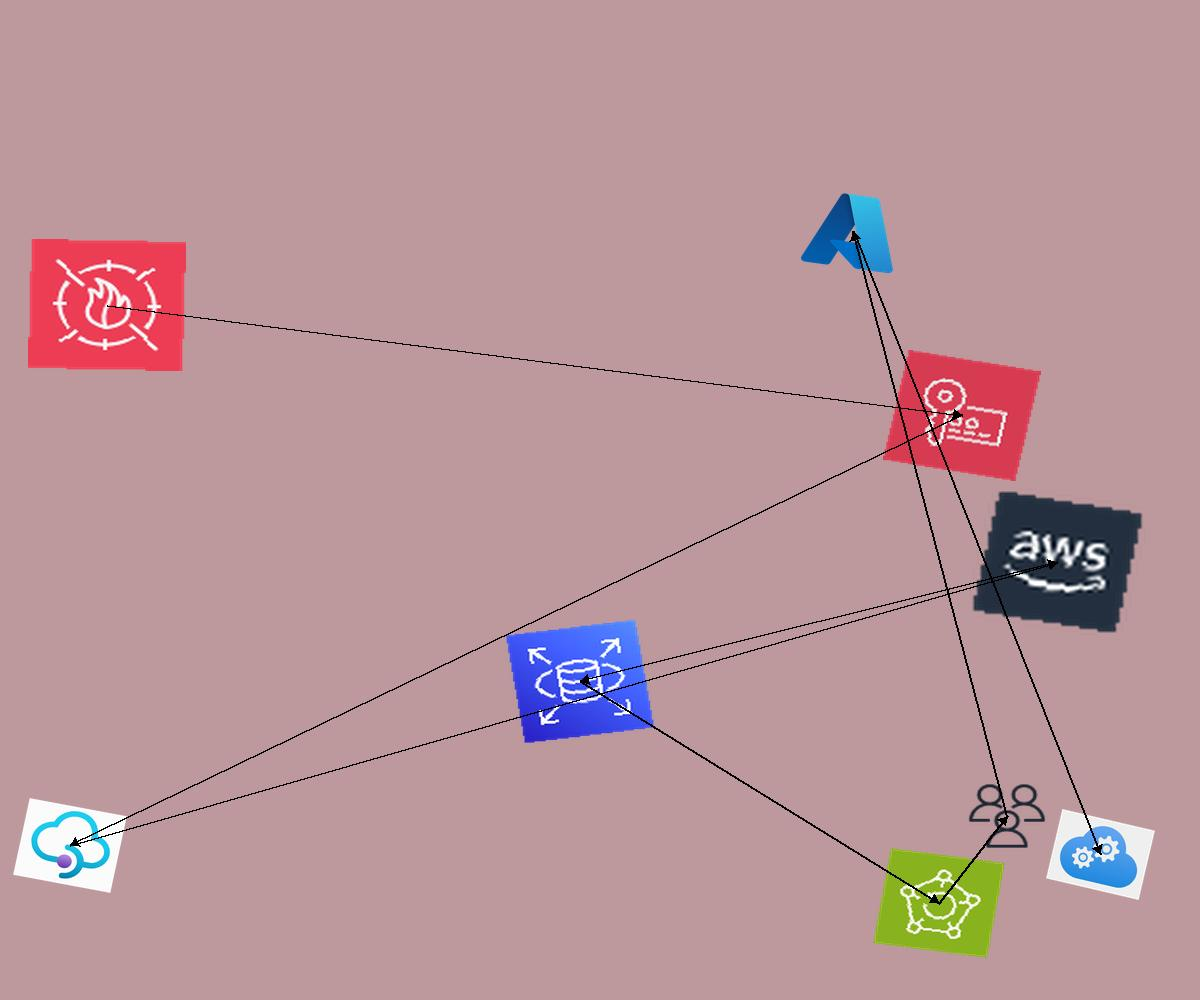AWS-Backup: (873, 848, 1005, 958)
AWS-Cloud-logo: (970, 489, 1145, 635)
AWS-Key-Management-Service: (883, 350, 1041, 481)
AWS-RDS: (505, 619, 655, 744)
AWS-Res_Users: (964, 780, 1050, 852)
AWS-WAF: (28, 239, 186, 371)
Azure_api_gateway: (13, 798, 127, 893)
Azure_cloud_services: (1046, 809, 1155, 900)
Azure_services: (795, 183, 912, 280)
